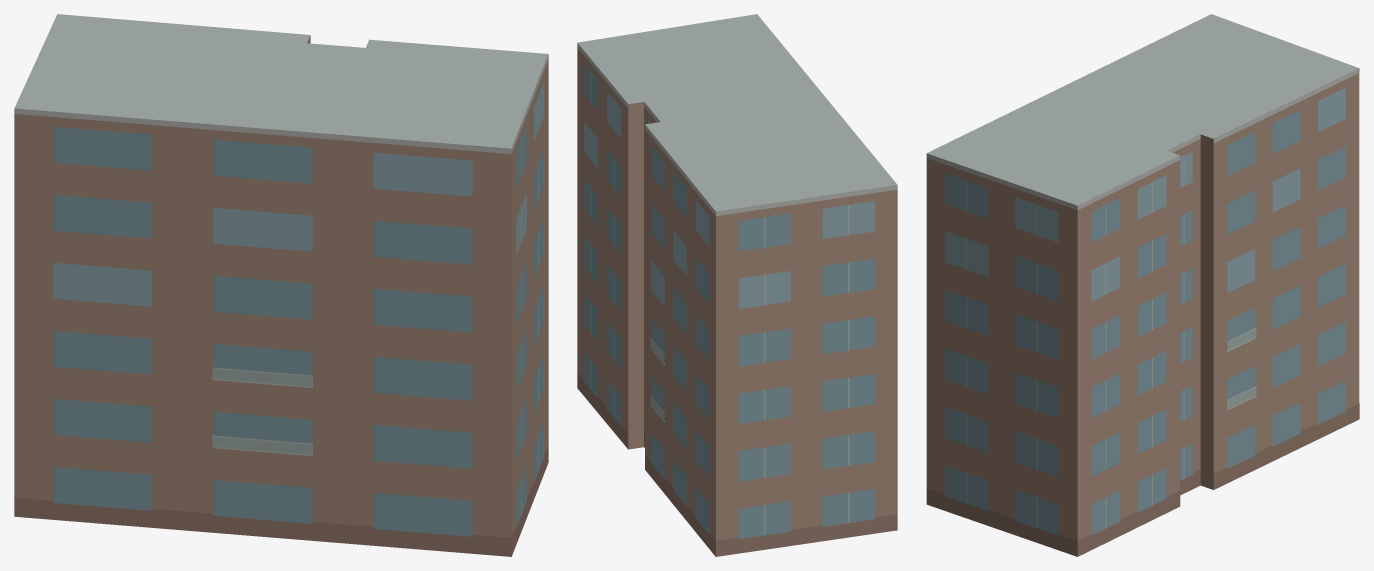
The model's file is survey-upis-32913698.glb.
The picture shows the model from 3 angles, left to right: view 1: azimuth 30°, elevation 25°; view 2: azimuth 150°, elevation 25°; view 3: azimuth 270°, elevation 25°; orthographic projection. The views are drawn at different scales.
Visible parts, largest first — view 1: survey-upis-32913698.tmp; view 2: survey-upis-32913698.tmp; view 3: survey-upis-32913698.tmp.
Boxes of the visible parts, left/top/right/bottom form: survey-upis-32913698.tmp: left=14, top=14, right=548, bottom=556; survey-upis-32913698.tmp: left=577, top=14, right=897, bottom=556; survey-upis-32913698.tmp: left=926, top=14, right=1359, bottom=556.
Bounding box in the file's own units: 21.43 × 18.3 × 20.45.
